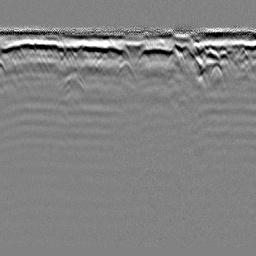cavity: (113, 58, 137, 80)
